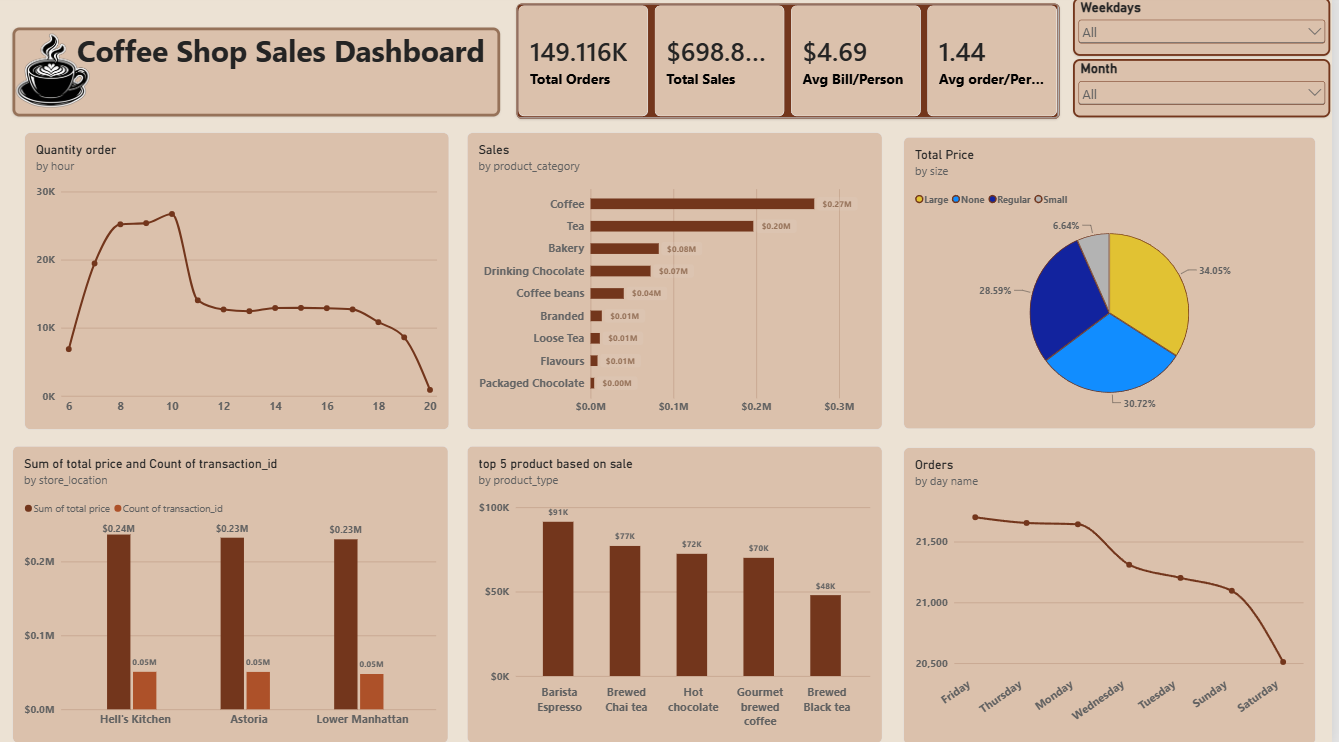

This screenshot's page, from the dashboard's own definition file:
{"tool":"powerbi","page":{"name":"Page 1","canvas":[1920,1080],"ordinal":0},"visuals":[{"type":"textbox","box":[23.7,49.7,701.1,127.9],"z":0},{"type":"lineChart","fields":{"Category":["Sheet1.hour"],"Y":["Sum(Sheet1.transaction_qty)"]},"box":[41,200.6,610.5,427.1],"z":1000},{"type":"pieChart","fields":{"Y":["Sum(Sheet1.total price)"],"Category":["Sheet1.size"]},"box":[1305.1,207.1,592.8,420.2],"z":2000},{"type":"clusteredBarChart","title":"Sales","fields":{"Category":["Sheet1.product_category"],"Y":["Sum(Sheet1.total price)"]},"box":[677.4,200.6,597.5,427.1],"z":3000},{"type":"clusteredColumnChart","fields":{"Category":["Sheet1.store_location"],"Y":["Sum(Sheet1.total price)","Count(Sheet1.transaction_id)"]},"box":[22.7,651.9,626.9,427],"z":4000},{"type":"columnChart","fields":{"Category":["Sheet1.product_type"],"Y":["Sum(Sheet1.total price)"]},"box":[677.4,651.5,597.5,427.1],"z":5000},{"type":"lineChart","title":"Orders","fields":{"Category":["Sheet1.day name"],"Y":["Count(Sheet1.transaction_id)"]},"box":[1305.1,653.6,592.8,427],"z":6000},{"type":"cardVisual","fields":{"Data":["Sheet1.Total Orders","Sheet1.Total Sales","Sheet1.Avg Bill/Person","Sheet1.Avg order/Person"]},"box":[748.4,14.2,781.6,165.8],"z":7000},{"type":"slicer","fields":{"Values":["Sheet1.day name"]},"box":[1549,6.8,370.2,84],"z":8000},{"type":"slicer","fields":{"Values":["Sheet1.month name"]},"box":[1549,95.4,370.2,84],"z":9000},{"type":"image","box":[0,59.2,161.1,106.6],"z":10000}]}

Visuals, with their boxes in screenshot pixels (x1, y1, x2, y2), scaled from the page's 1920x1080 canvas onto the 1339x742 screenshot:
textbox: [left=17, top=34, right=505, bottom=122]
lineChart - Sheet1.hour x Sum(Sheet1.transaction_qty): [left=29, top=138, right=454, bottom=431]
pieChart - Sum(Sheet1.total price) x Sheet1.size: [left=910, top=142, right=1324, bottom=431]
"Sales" clusteredBarChart: [left=472, top=138, right=889, bottom=431]
clusteredColumnChart - Sheet1.store_location x Sum(Sheet1.total price): [left=16, top=448, right=453, bottom=741]
columnChart - Sheet1.product_type x Sum(Sheet1.total price): [left=472, top=448, right=889, bottom=741]
"Orders" lineChart: [left=910, top=449, right=1324, bottom=741]
cardVisual - Sheet1.Total Orders x Sheet1.Total Sales: [left=522, top=10, right=1067, bottom=124]
slicer - Sheet1.day name: [left=1080, top=5, right=1338, bottom=62]
slicer - Sheet1.month name: [left=1080, top=66, right=1338, bottom=123]
image: [left=0, top=41, right=112, bottom=114]
